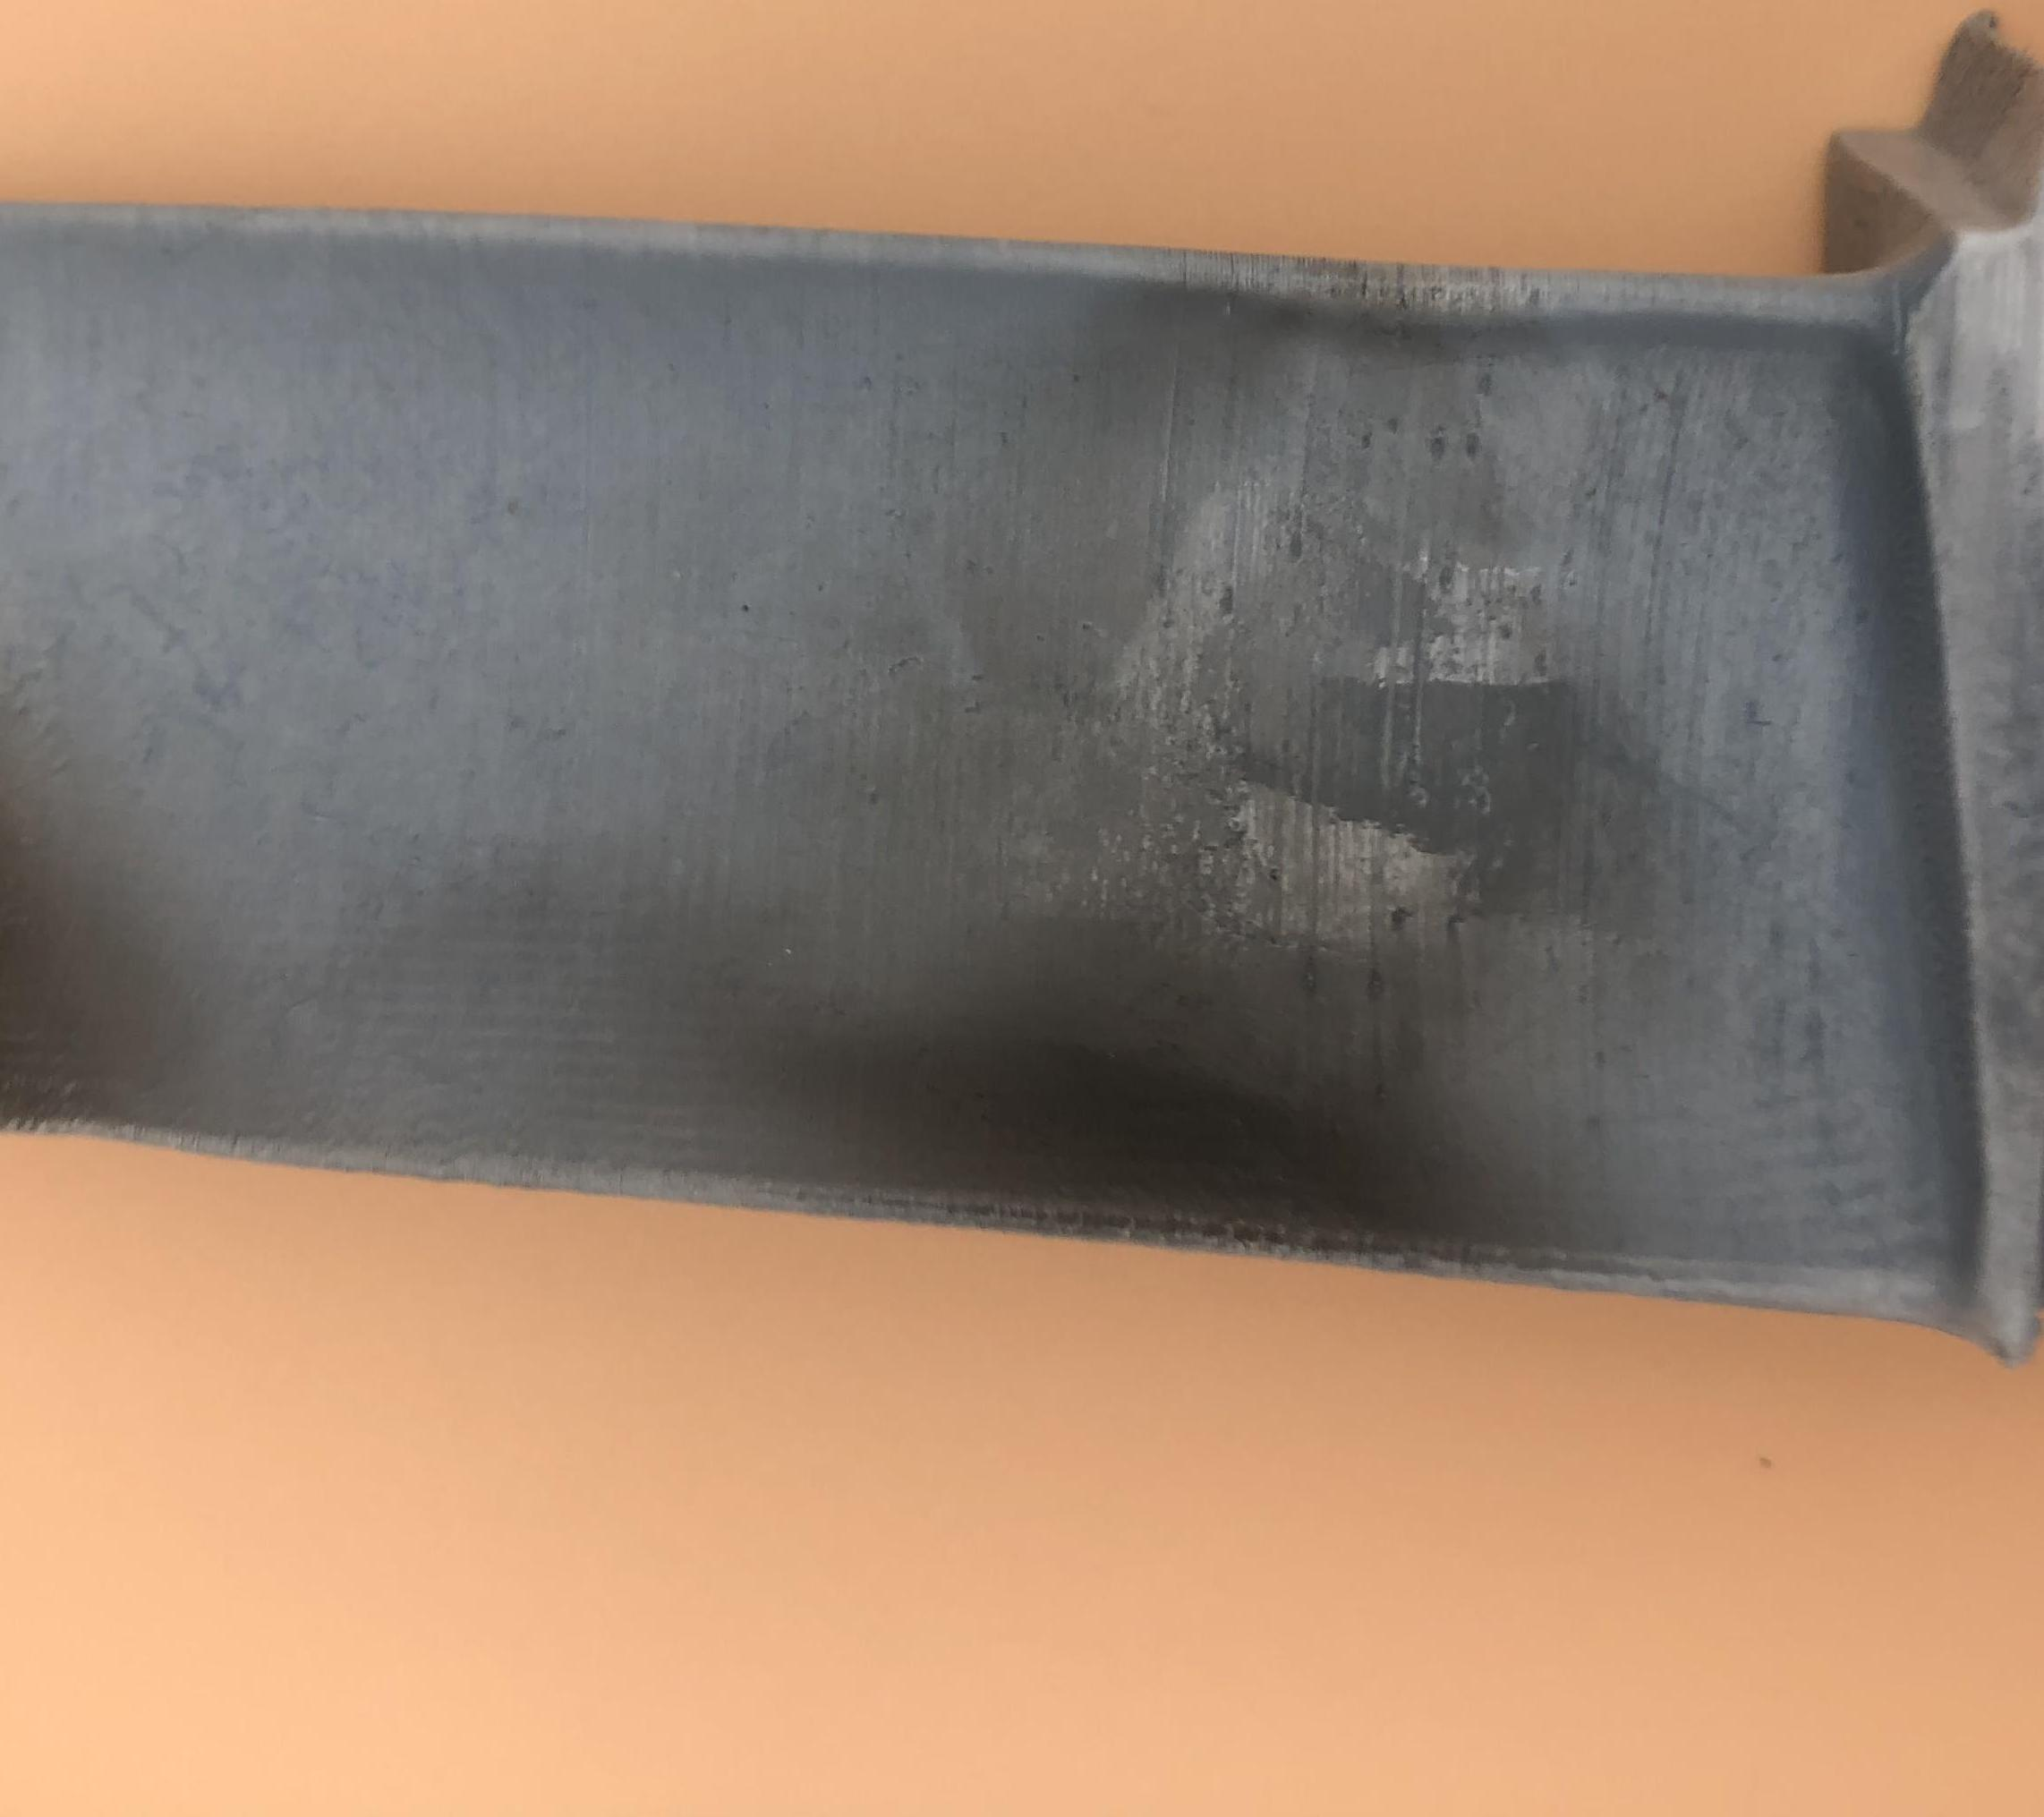ablation: (976, 702, 1537, 1261), (9, 819, 153, 1122)
